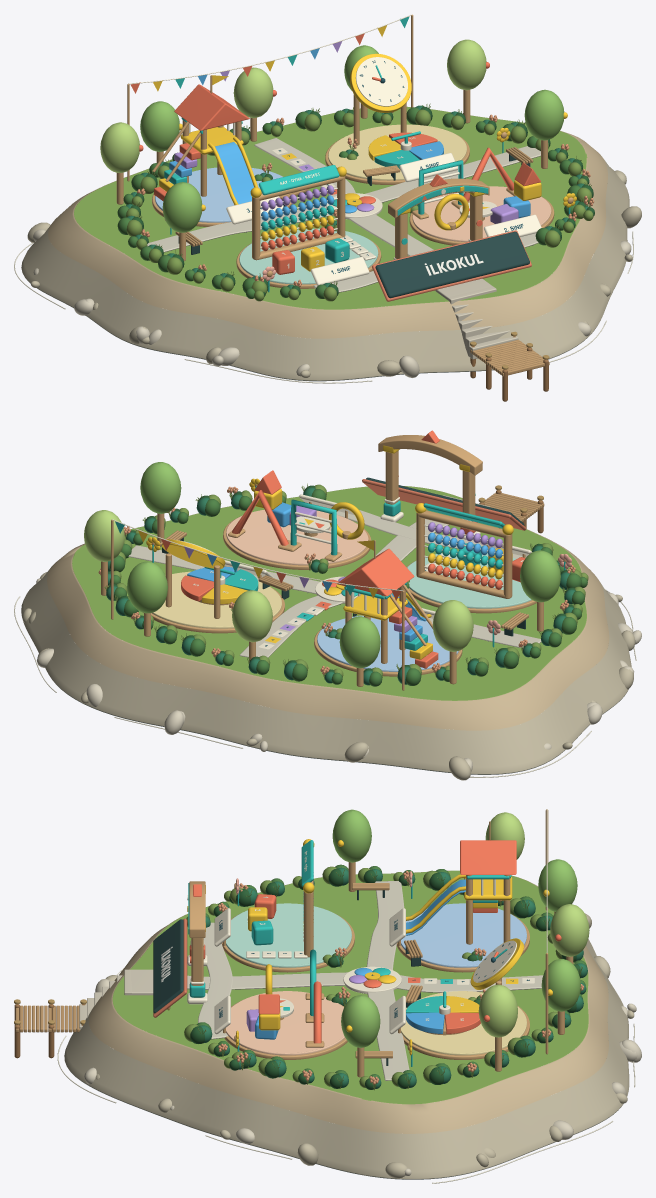
File: ilkokul.glb
3 renders of one model, top to bottom at view 1: azimuth 30°, elevation 25°; view 2: azimuth 150°, elevation 25°; view 3: azimuth 270°, elevation 25°, orthographic. The views are drawn at different scales.
Visible parts, largest first — view 1: static, grade|1, grade|4, grade|3, grade|2; view 2: static, grade|1, grade|2, grade|3, grade|4; view 3: static, grade|3, grade|1, grade|2, grade|4.
Part boxes in pixels (<box>): static: <box>14,14,641,401</box>; grade|1: <box>236,165,381,288</box>; grade|4: <box>325,53,469,184</box>; grade|3: <box>152,75,296,226</box>; grade|2: <box>409,147,554,245</box>; static: <box>14,430,641,780</box>; grade|1: <box>406,503,536,613</box>; grade|2: <box>223,470,371,569</box>; grade|3: <box>314,540,462,676</box>; grade|4: <box>143,539,284,633</box>; static: <box>14,809,641,1183</box>; grade|3: <box>389,821,529,972</box>; grade|1: <box>214,839,354,972</box>; grade|2: <box>214,949,347,1059</box>; grade|4: <box>389,938,529,1059</box>.
Bounding box in the file's own units: 19.75 × 5.98 × 18.47.
